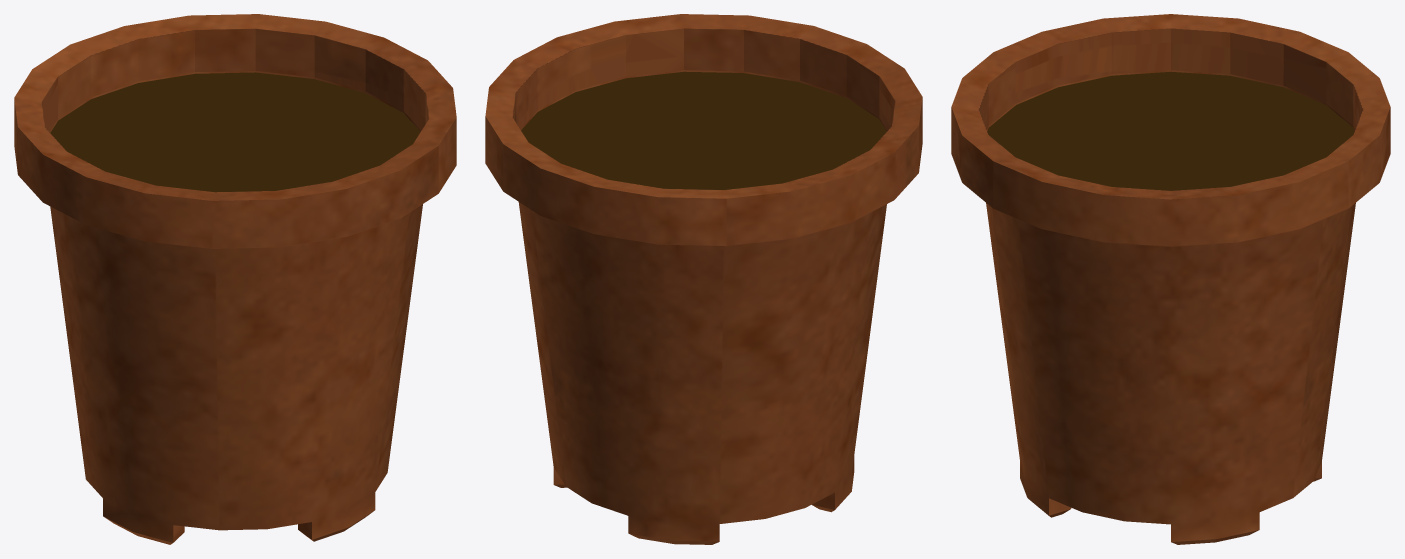
Rendered from silo pot.fbx.
The picture shows the model from 3 angles, left to right: view 1: azimuth 30°, elevation 25°; view 2: azimuth 150°, elevation 25°; view 3: azimuth 270°, elevation 25°; orthographic projection.
Parts seen in each view (by area): view 1: pCylinder661; view 2: pCylinder661; view 3: pCylinder661.
Boxes of the visible parts, x1,y1,x2,y2 form: pCylinder661: [14, 14, 456, 544]; pCylinder661: [485, 14, 922, 544]; pCylinder661: [951, 14, 1390, 544].
Size of the model in its own units: 77.62 by 73.69 by 77.62.
2 materials, 1 textured.
